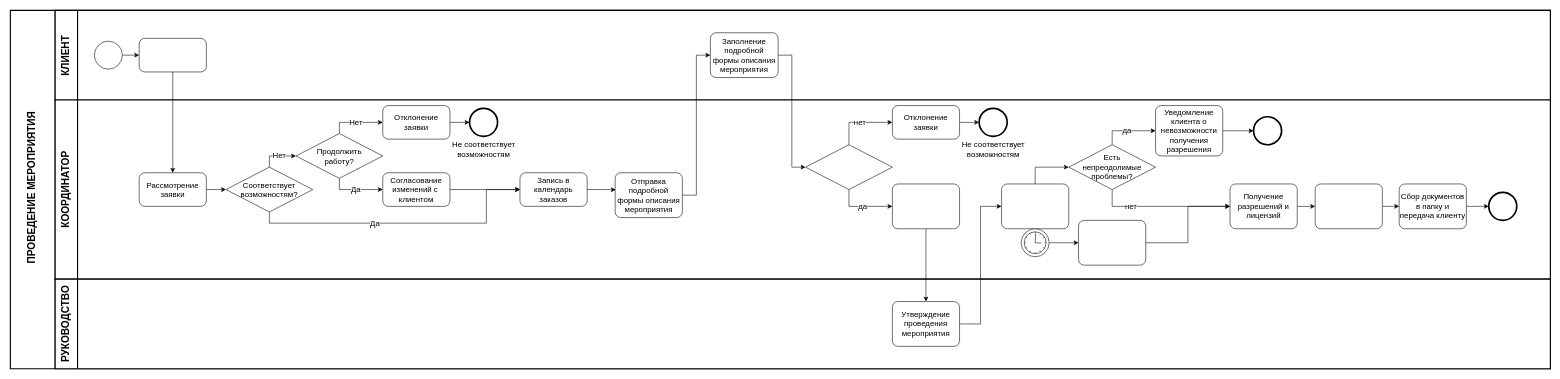
Some shapes in this 1560 by 379 pixel diagram are drawn without their labels. Here are the shapes that lost their labels. From the top down, the centre of each, then its label:
At [172,55]: "Подача заявки на мероприятие".
At [1267,130]: "Невозможно получить разрешение".
At [848,167]: "Более 200 дней до начала?".
At [926,206]: "Рассмотрение подробной формы".
At [1035,206]: "Запрос на получение разрешений и лицензии".
At [1348,206]: "Уведомление клиента о получении разрешений".
At [1502,206]: "Заказ выполнен".
At [1112,242]: "Уведомление руководства и клиента о переносе даты".
